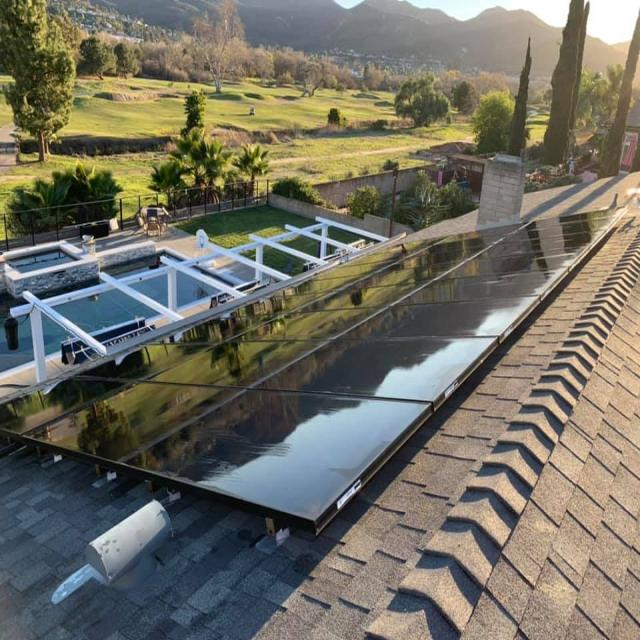clean-solar-panel: (1, 213, 619, 532)
